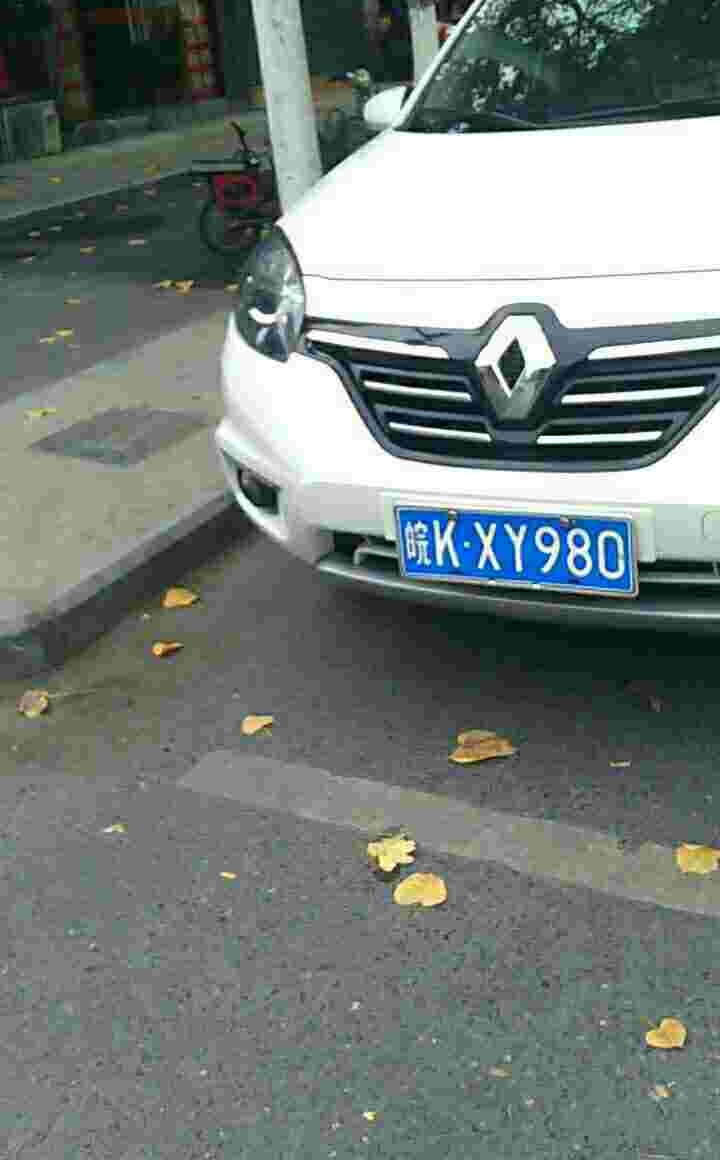license_plate: (391, 515, 633, 591)
